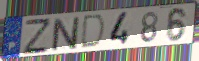4: (109, 11, 133, 48)
6: (165, 7, 191, 43)
8: (139, 11, 160, 44)
D: (79, 14, 108, 50)
N: (51, 16, 81, 53)
Z: (22, 18, 51, 57)
